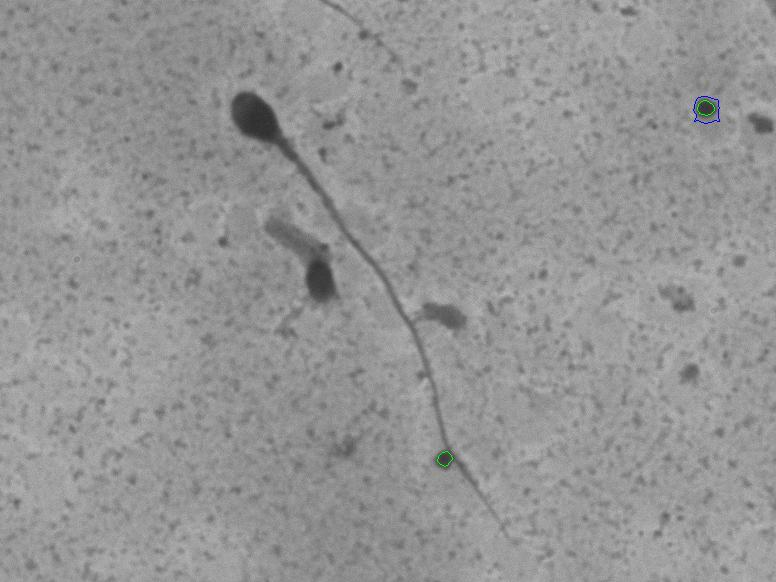Normal: (209, 74, 528, 548)
